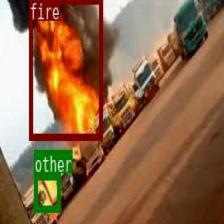fire: (29, 0, 102, 138)
